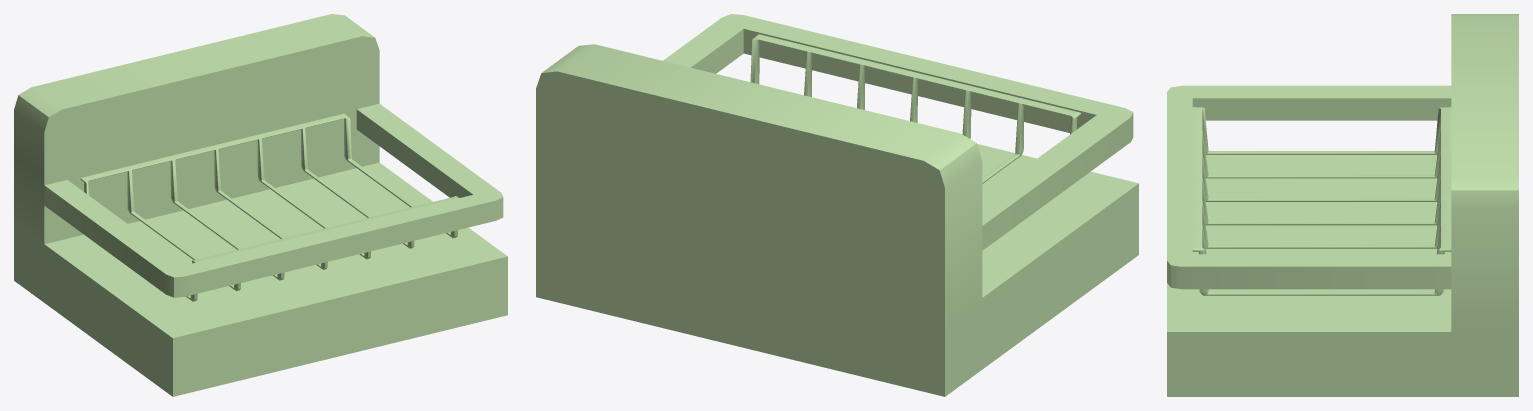
File: wanjia.fbx
The picture shows the model from 3 angles, left to right: view 1: azimuth 30°, elevation 25°; view 2: azimuth 150°, elevation 25°; view 3: azimuth 270°, elevation 25°; orthographic projection. The views are drawn at different scales.
Parts seen in each view (by area): view 1: Box030; view 2: Box030; view 3: Box030.
Boxes of the visible parts, box(x1,y1,x2,y2) form: Box030: box(14, 14, 507, 396); Box030: box(536, 14, 1138, 396); Box030: box(1167, 14, 1518, 396).
Size of the model in its own units: 4.95 by 2.67 by 4.07.
